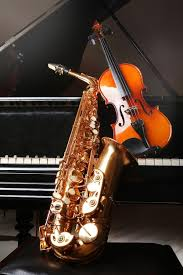Piano: (1, 84, 183, 219)
Saxophone: (41, 50, 130, 267)
Violin: (85, 21, 183, 169)
